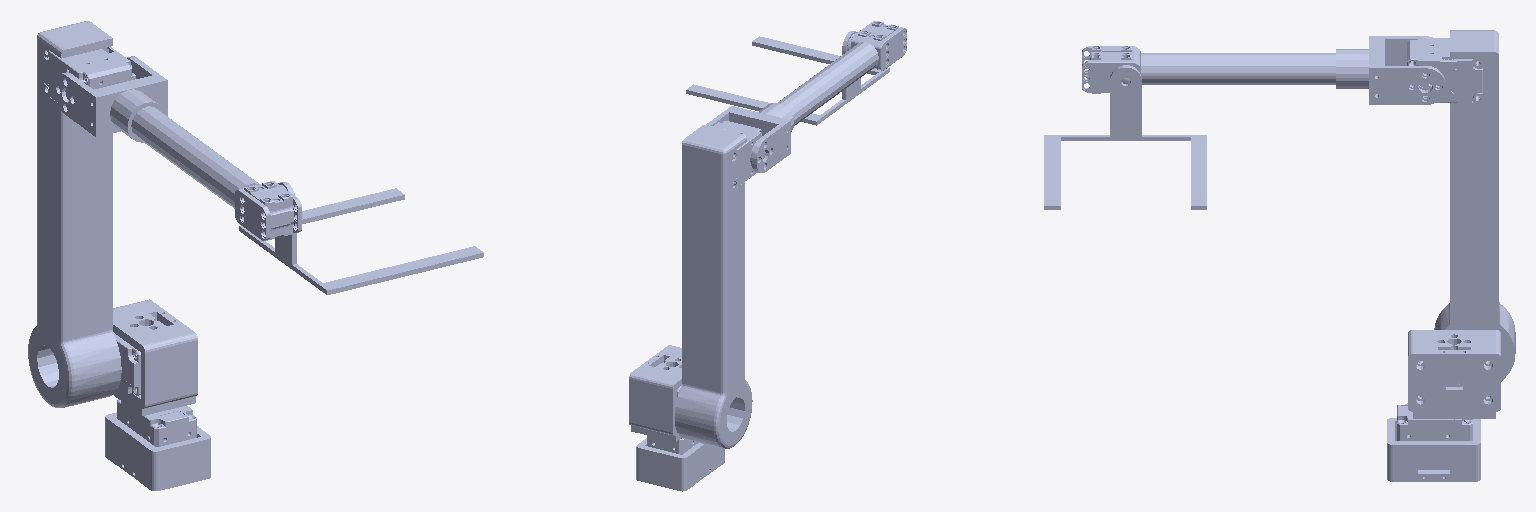
URDF robot description (d2c_description):
<?xml version="1.0" encoding="utf-8"?>

<robot
  name="d2c_description">
  <link
    name="base_link">
    <inertial>
      <origin
        xyz="-0.00043978 0.00035738 0.018027"
        rpy="0 0 0" />
      <mass
        value="0.068503" />
      <inertia
        ixx="2.2545E-05"
        ixy="4.7989E-09"
        ixz="-2.6742E-08"
        iyy="1.2893E-05"
        iyz="-2.5548E-07"
        izz="2.4878E-05" />
    </inertial>
    <visual>
      <origin
        xyz="0 0 0"
        rpy="0 0 0" />
      <geometry>
        <mesh
          filename="package://d2c_robot_description/meshes/base_link.STL" />
      </geometry>
      <material
        name="">
        <color
          rgba="0.79216 0.81961 0.93333 1" />
      </material>
    </visual>
    <collision>
      <origin
        xyz="0 0 0"
        rpy="0 0 0" />
      <geometry>
        <mesh
          filename="package://d2c_robot_description/meshes/base_link.STL" />
      </geometry>
    </collision>
  </link>
  <link
    name="link1">
    <inertial>
      <origin
        xyz="-0.0016907 0.00029083 0.020821"
        rpy="0 0 0" />
      <mass
        value="0.084203" />
      <inertia
        ixx="3.5148E-05"
        ixy="2.5544E-07"
        ixz="-3.0439E-07"
        iyy="2.1191E-05"
        iyz="4.4082E-09"
        izz="3.1481E-05" />
    </inertial>
    <visual>
      <origin
        xyz="0 0 0"
        rpy="0 0 0" />
      <geometry>
        <mesh
          filename="package://d2c_robot_description/meshes/link1.STL" />
      </geometry>
      <material
        name="">
        <color
          rgba="0.79216 0.81961 0.93333 1" />
      </material>
    </visual>
    <collision>
      <origin
        xyz="0 0 0"
        rpy="0 0 0" />
      <geometry>
        <mesh
          filename="package://d2c_robot_description/meshes/link1.STL" />
      </geometry>
    </collision>
  </link>
  <joint
    name="joint1"
    type="revolute">
    <origin
      xyz="-0.00056185 0.0125 0.0429"
      rpy="0 0 0" />
    <parent
      link="base_link" />
    <child
      link="link1" />
    <axis
      xyz="0 0 -1" />
    <limit
      lower="3.14"
      upper="-3.14"
      effort="0"
      velocity="0" />
  </joint>
  <link
    name="link2">
    <inertial>
      <origin
        xyz="-0.015137 -0.0025994 0.097393"
        rpy="0 0 0" />
      <mass
        value="0.25649" />
      <inertia
        ixx="0.00086048"
        ixy="-2.5703E-07"
        ixz="1.0049E-06"
        iyy="0.00085527"
        iyz="-1.0286E-05"
        izz="5.3981E-05" />
    </inertial>
    <visual>
      <origin
        xyz="0 0 0"
        rpy="0 0 0" />
      <geometry>
        <mesh
          filename="package://d2c_robot_description/meshes/link2.STL" />
      </geometry>
      <material
        name="">
        <color
          rgba="0.79216 0.81961 0.93333 1" />
      </material>
    </visual>
    <collision>
      <origin
        xyz="0 0 0"
        rpy="0 0 0" />
      <geometry>
        <mesh
          filename="package://d2c_robot_description/meshes/link2.STL" />
      </geometry>
    </collision>
  </link>
  <joint
    name="joint2"
    type="revolute">
    <origin
      xyz="-0.0254 0.0125 0.02335"
      rpy="0 0 0" />
    <parent
      link="link1" />
    <child
      link="link2" />
    <axis
      xyz="1 0 0" />
    <limit
      lower="3.14"
      upper="-3.14"
      effort="0"
      velocity="0" />
  </joint>
  <link
    name="link3">
    <inertial>
      <origin
        xyz="0.020034 -0.10196 -4.7366E-05"
        rpy="0 0 0" />
      <mass
        value="0.081122" />
      <inertia
        ixx="0.00014931"
        ixy="4.3602E-06"
        ixz="2.2304E-09"
        iyy="7.7135E-06"
        iyz="-9.0825E-09"
        izz="0.00015134" />
    </inertial>
    <visual>
      <origin
        xyz="0 0 0"
        rpy="0 0 0" />
      <geometry>
        <mesh
          filename="package://d2c_robot_description/meshes/link3.STL" />
      </geometry>
      <material
        name="">
        <color
          rgba="0.79216 0.81961 0.93333 1" />
      </material>
    </visual>
    <collision>
      <origin
        xyz="0 0 0"
        rpy="0 0 0" />
      <geometry>
        <mesh
          filename="package://d2c_robot_description/meshes/link3.STL" />
      </geometry>
    </collision>
  </link>
  <joint
    name="joint3"
    type="revolute">
    <origin
      xyz="-0.036 -0.03025 0.18425"
      rpy="0 0 0" />
    <parent
      link="link2" />
    <child
      link="link3" />
    <axis
      xyz="-1 0 0" />
    <limit
      lower="3.14"
      upper="-3.14"
      effort="0"
      velocity="0" />
  </joint>
  <link
    name="link4">
    <inertial>
      <origin
        xyz="0.031004 0 -0.032054"
        rpy="0 0 0" />
      <mass
        value="0.0095064" />
      <inertia
        ixx="1.4525E-05"
        ixy="5.5078E-21"
        ixz="1.9918E-06"
        iyy="1.2362E-05"
        iyz="-3.23E-21"
        izz="2.3908E-05" />
    </inertial>
    <visual>
      <origin
        xyz="0 0 0"
        rpy="0 0 0" />
      <geometry>
        <mesh
          filename="package://d2c_robot_description/meshes/link4.STL" />
      </geometry>
      <material
        name="">
        <color
          rgba="0.79216 0.81961 0.93333 1" />
      </material>
    </visual>
    <collision>
      <origin
        xyz="0 0 0"
        rpy="0 0 0" />
      <geometry>
        <mesh
          filename="package://d2c_robot_description/meshes/link4.STL" />
      </geometry>
    </collision>
  </link>
  <joint
    name="joint4"
    type="revolute">
    <origin
      xyz="0.037937 -0.184 -9.3958E-05"
      rpy="0 0 0" />
    <parent
      link="link3" />
    <child
      link="link4" />
    <axis
      xyz="1 0 0" />
    <limit
      lower="3.14"
      upper="-3.14"
      effort="0"
      velocity="0" />
  </joint>
</robot>

--- What the picture shows (computed from the rendered views, not written in the file) ---
The picture shows the robot from 3 angles, left to right: view 1: azimuth 30°, elevation 25°; view 2: azimuth 150°, elevation 25°; view 3: azimuth 270°, elevation 25°; orthographic projection.
Model d2c_description with 5 links and 4 joints (4 revolute), rooted at base_link, posed every joint at zero.
Visible links, largest first — view 1: link2, link3, link1, base_link, link4; view 2: link2, link3, link1, base_link, link4; view 3: link2, link3, link1, base_link, link4.
Boxes of the visible links, <box> form: link2: <box>28,21,135,407</box>; link3: <box>55,56,301,240</box>; link1: <box>113,299,197,415</box>; base_link: <box>105,399,210,490</box>; link4: <box>239,182,483,294</box>; link2: <box>675,121,765,448</box>; link3: <box>706,21,906,172</box>; link1: <box>629,345,681,441</box>; base_link: <box>636,435,724,491</box>; link4: <box>686,31,889,125</box>; link2: <box>1407,30,1515,381</box>; link3: <box>1082,36,1445,104</box>; link1: <box>1408,330,1500,418</box>; base_link: <box>1387,403,1480,481</box>; link4: <box>1044,65,1206,209</box>.
Bounding box of the posed robot: 0.14 × 0.2892 × 0.2708 m (x, y, z).
Meshes: 5 distinct files referenced, 5 mesh visuals loaded (5 binary STL).